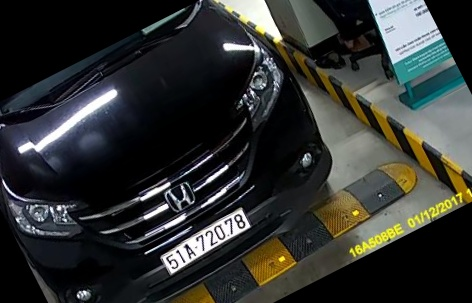plate: (156, 210, 265, 280)
